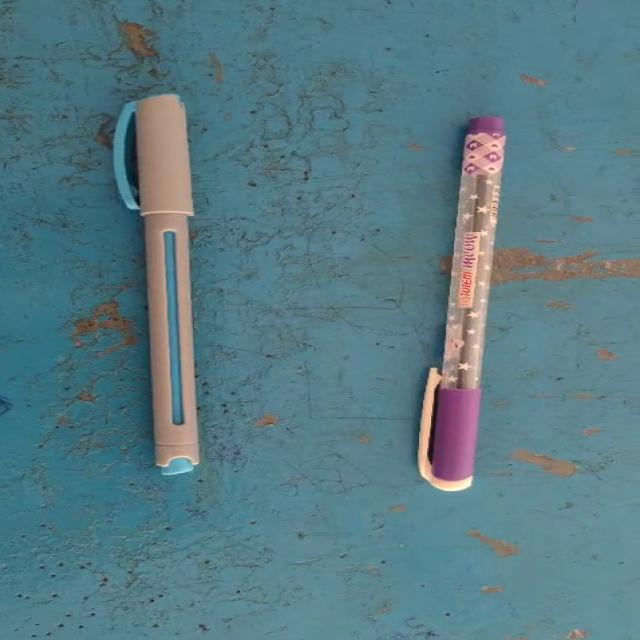pen: (41, 41, 256, 514), (373, 82, 548, 519)
